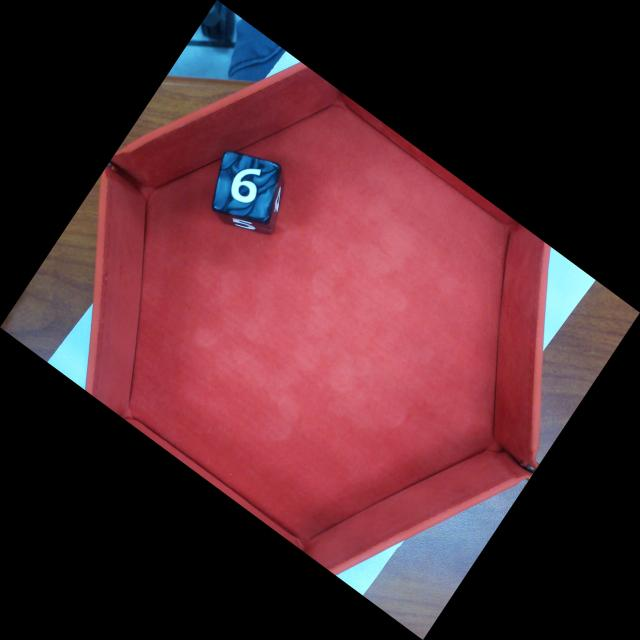dice: (211, 150, 281, 224)
